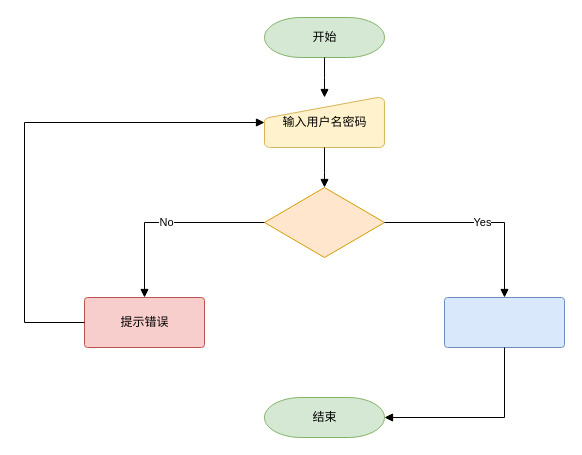
This 582x455 diagram has some shape labels left out. The shapes that lost their labels are listed below. From the top down, each one's box as (x1, y1, x2, y2) in pixels, then its label:
(264, 186, 384, 258): 校验通过？
(444, 296, 564, 348): 进入主页
